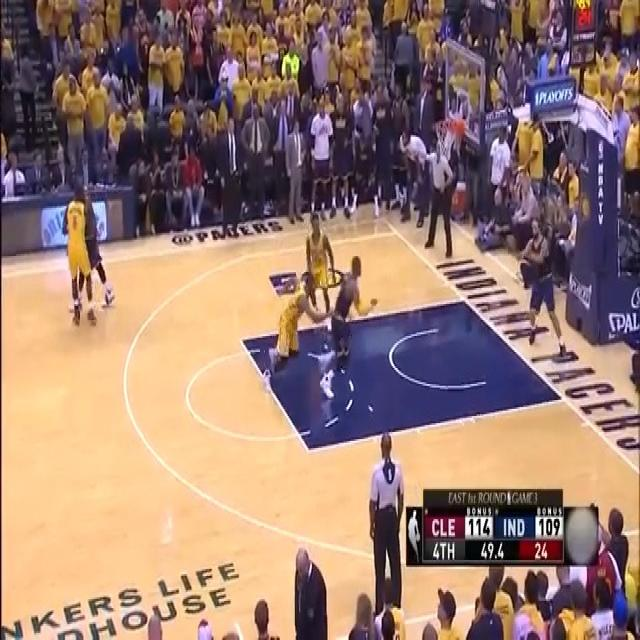hoop: (434, 117, 462, 161)
